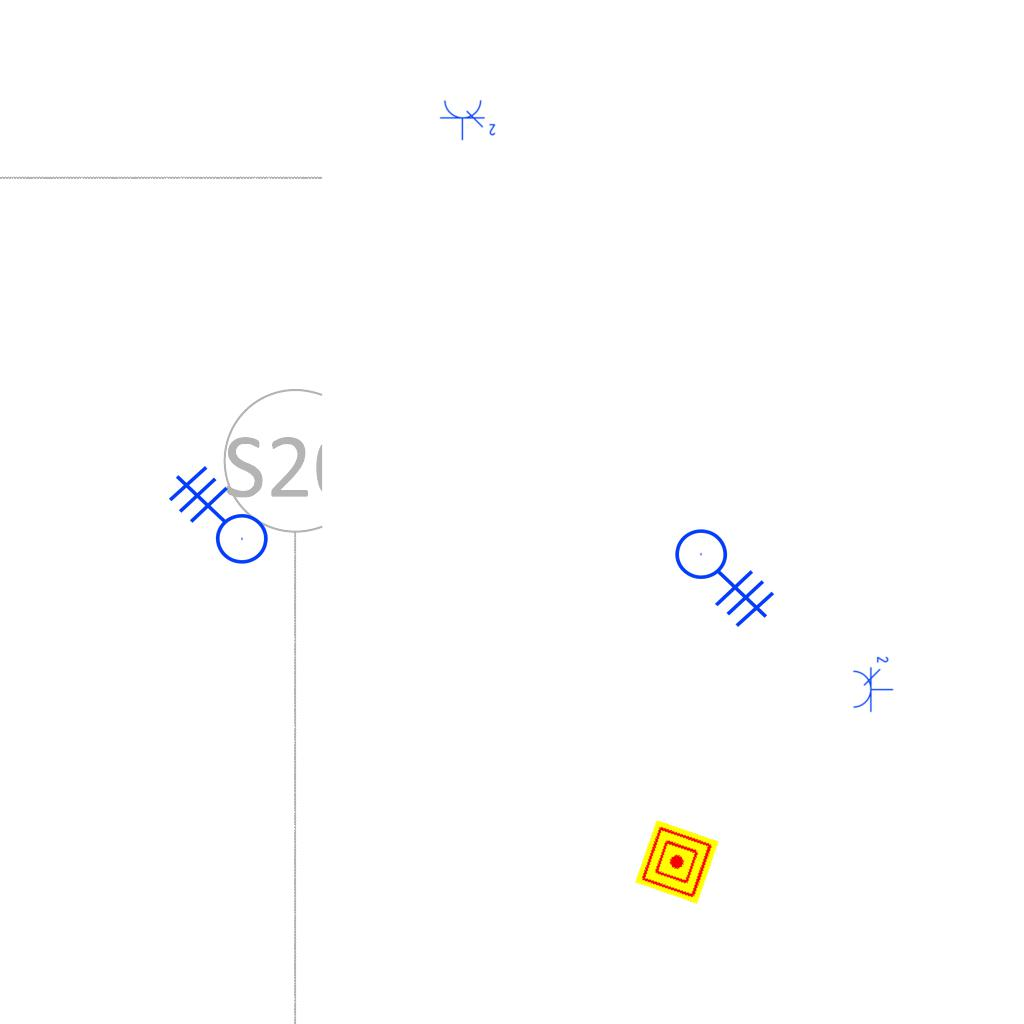Elektroanschluss_allgemein_400V_Geraeteanschlussdose_400V: (674, 512, 787, 628), (156, 465, 269, 581)
NAM-Nichtautomatischer_Melder: (635, 820, 719, 904)
Schukosteckdose_mehrfach: (850, 653, 894, 713), (439, 97, 499, 141)
